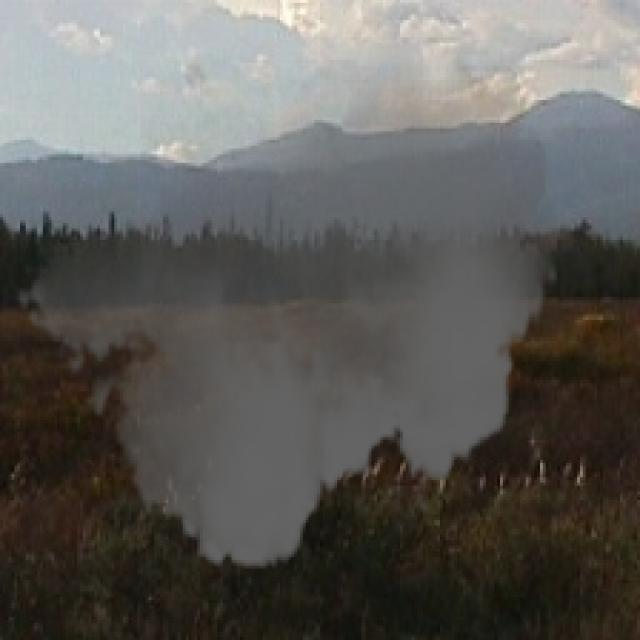smoke: (14, 37, 557, 589)
